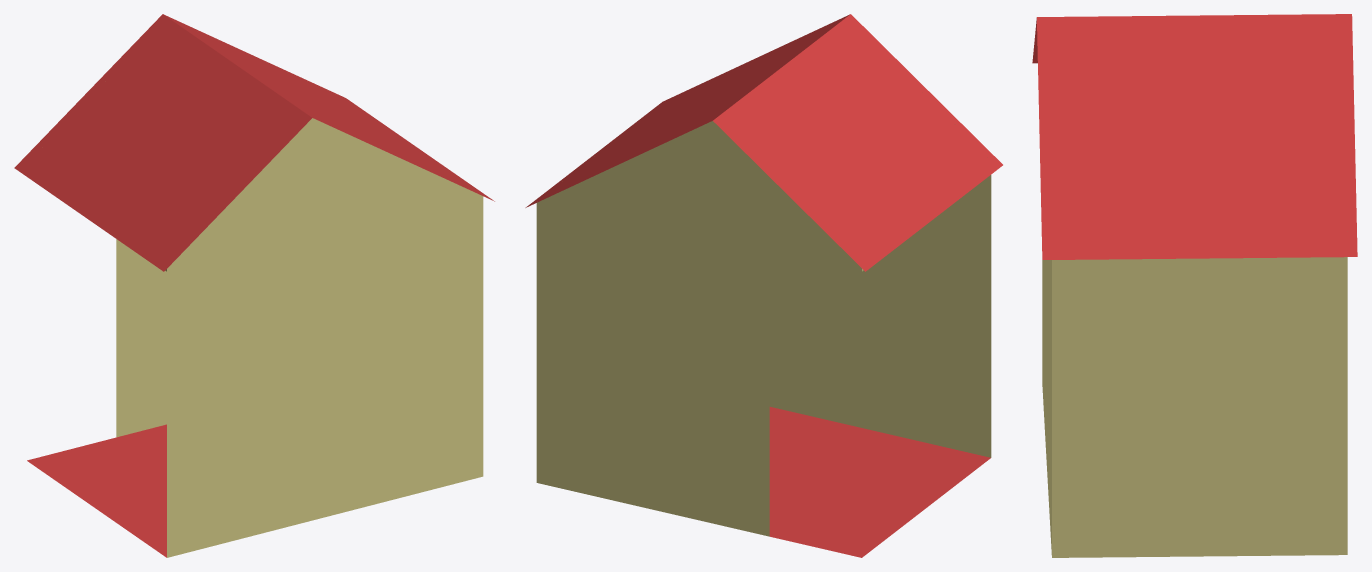
The picture shows the model from 3 angles, left to right: view 1: azimuth 30°, elevation 25°; view 2: azimuth 150°, elevation 25°; view 3: azimuth 270°, elevation 25°; orthographic projection. The views are drawn at different scales.
Size of the model in its own units: 11 by 8.26 by 12.5.
